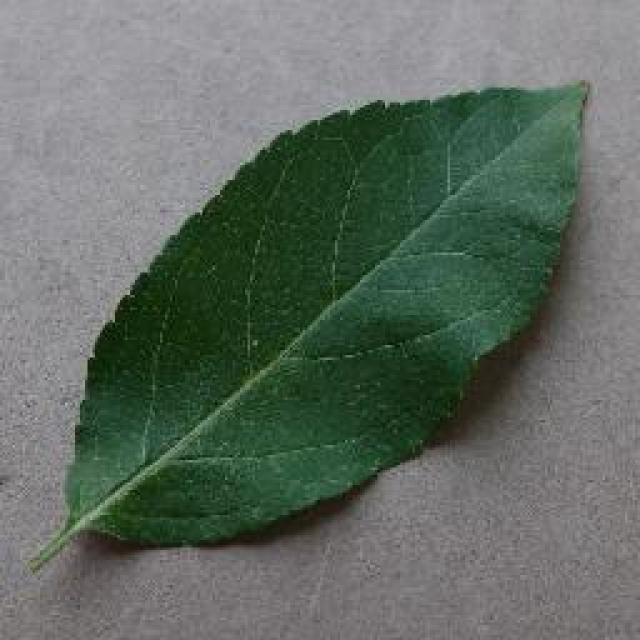apple healthy: (25, 75, 593, 573)
